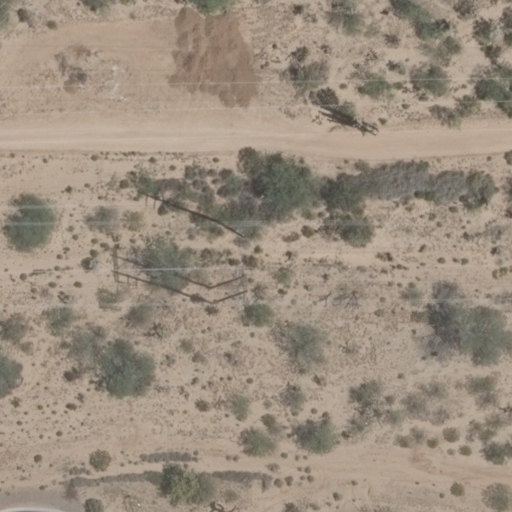DT: (223, 218, 252, 237)
TT: (106, 247, 210, 303)
